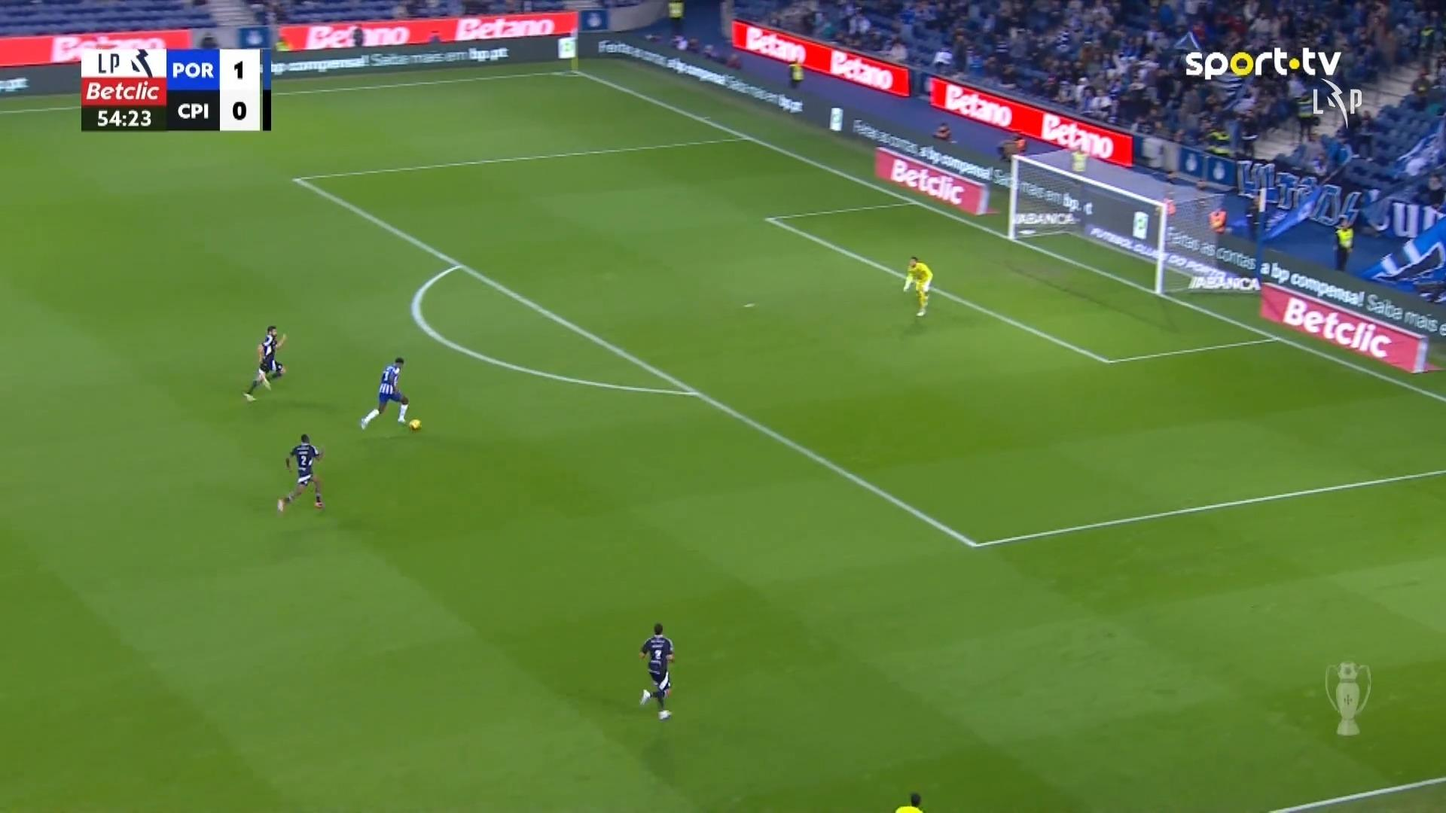ball: (408, 418, 420, 430)
goalkeeper: (901, 255, 932, 316)
player: (276, 433, 325, 513), (358, 356, 410, 430), (638, 622, 675, 720), (242, 324, 288, 402)
